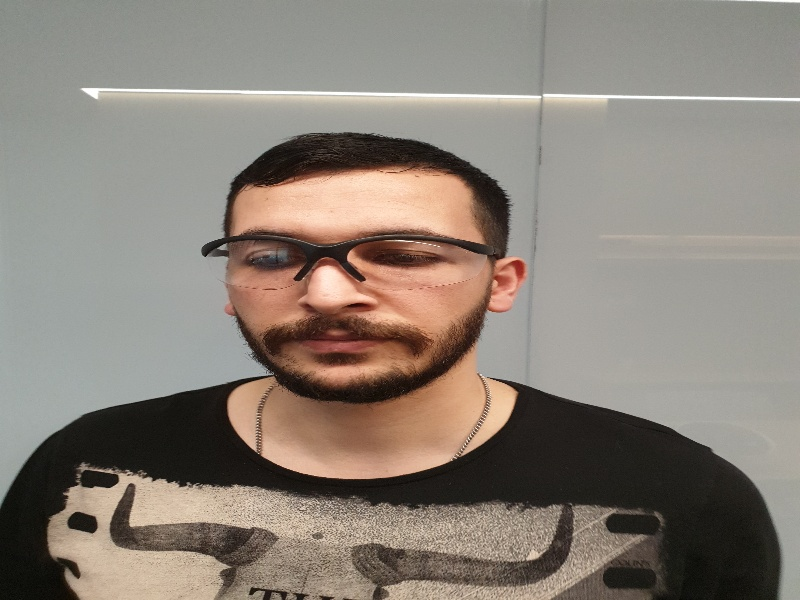Gozluk: (203, 233, 504, 282)
